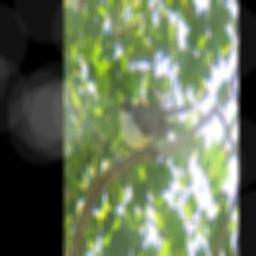Cuckoo: (113, 26, 200, 192)
